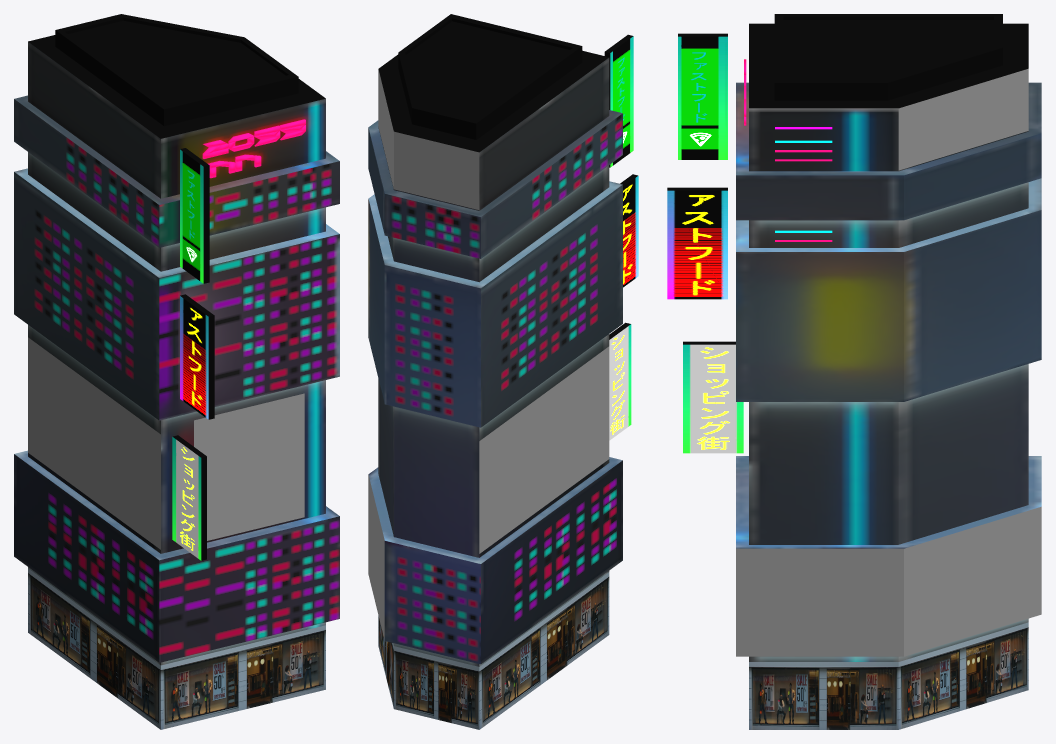
The model's file is BLD1310017.fbx.
3 views of the same model, side by side, from view 1: azimuth 30°, elevation 25°; view 2: azimuth 150°, elevation 25°; view 3: azimuth 270°, elevation 25° (orthographic). The views are drawn at different scales.
Visible parts, largest first — view 1: smBLD1310017; view 2: smBLD1310017; view 3: smBLD1310017.
Boxes of the visible parts, x1,y1,x2,y2 form: smBLD1310017: (14,14,339,729); smBLD1310017: (368,14,638,729); smBLD1310017: (667,14,1041,729).
Bounding box in the file's own units: 792 × 2548 × 1353.
4 materials, 2 textured.
